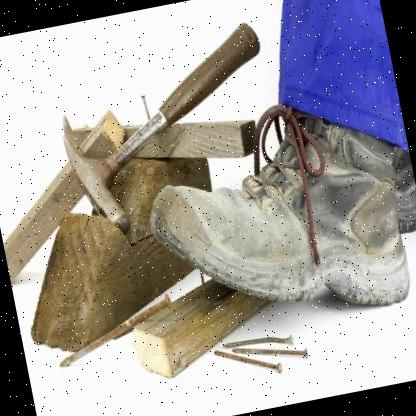bota: (128, 83, 416, 352)
